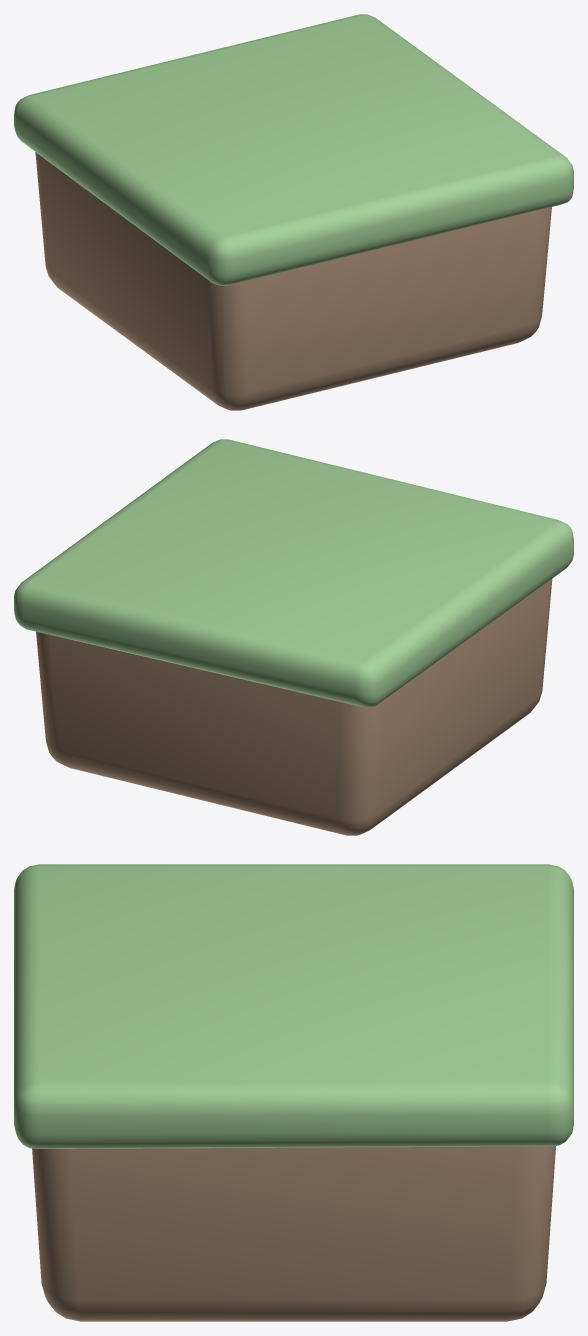
Rendered from tile.fbx.
The picture shows the model from 3 angles, top to bottom: view 1: azimuth 30°, elevation 25°; view 2: azimuth 150°, elevation 25°; view 3: azimuth 270°, elevation 25°; orthographic projection. The views are drawn at different scales.
Visible parts, largest first — view 1: Tile; view 2: Tile; view 3: Tile.
Boxes of the visible parts, <box> form: Tile: <box>14,14,573,410</box>; Tile: <box>14,439,573,835</box>; Tile: <box>14,864,573,1321</box>.
Bounding box in the file's own units: 1 × 0.5 × 1.
